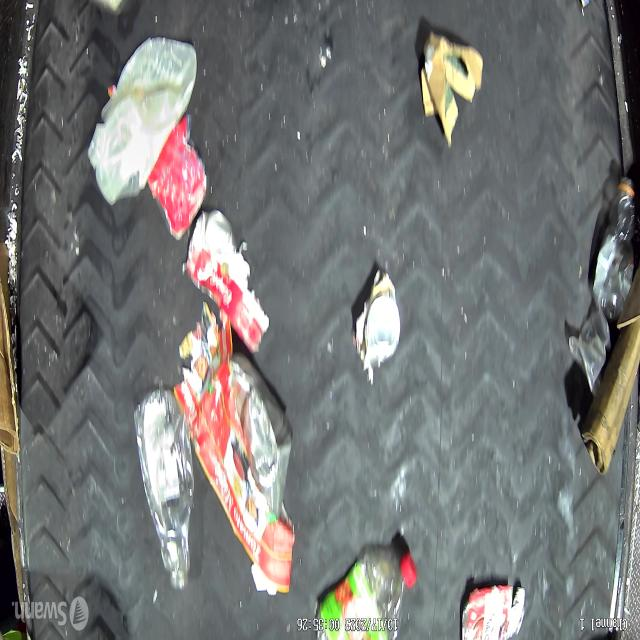milk_jug: (86, 37, 197, 206)
plastic_bottle: (134, 386, 192, 594), (315, 548, 417, 640), (594, 180, 638, 322)
